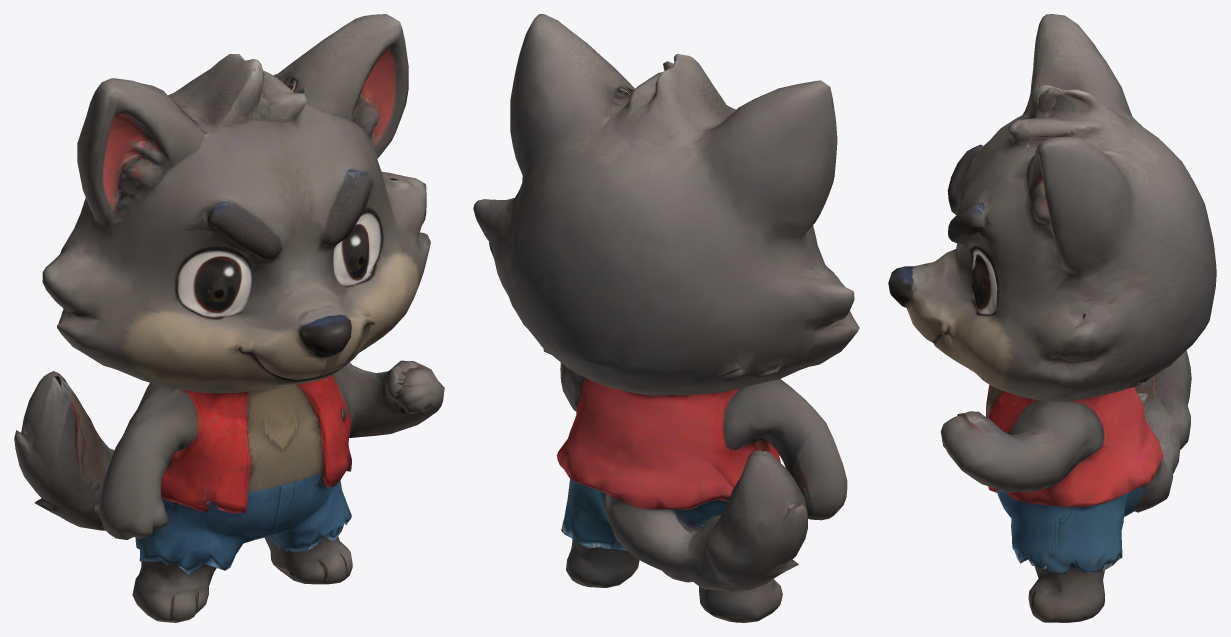
Rendered from Wolfie_Joy_0512115612_texture.glb.
The picture shows the model from 3 angles, left to right: view 1: azimuth 30°, elevation 25°; view 2: azimuth 150°, elevation 25°; view 3: azimuth 270°, elevation 25°; orthographic projection. The views are drawn at different scales.
Size of the model in its own units: 1.46 by 2 by 1.18.
1 material, 1 textured.
